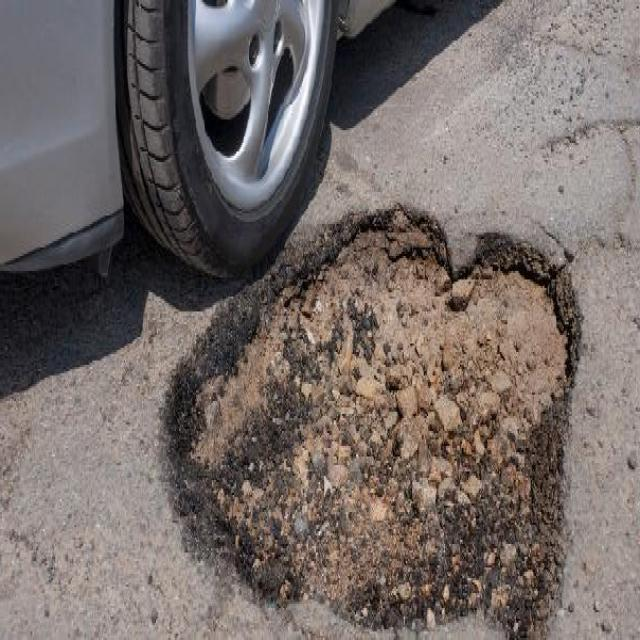pothole: (162, 200, 585, 636)
